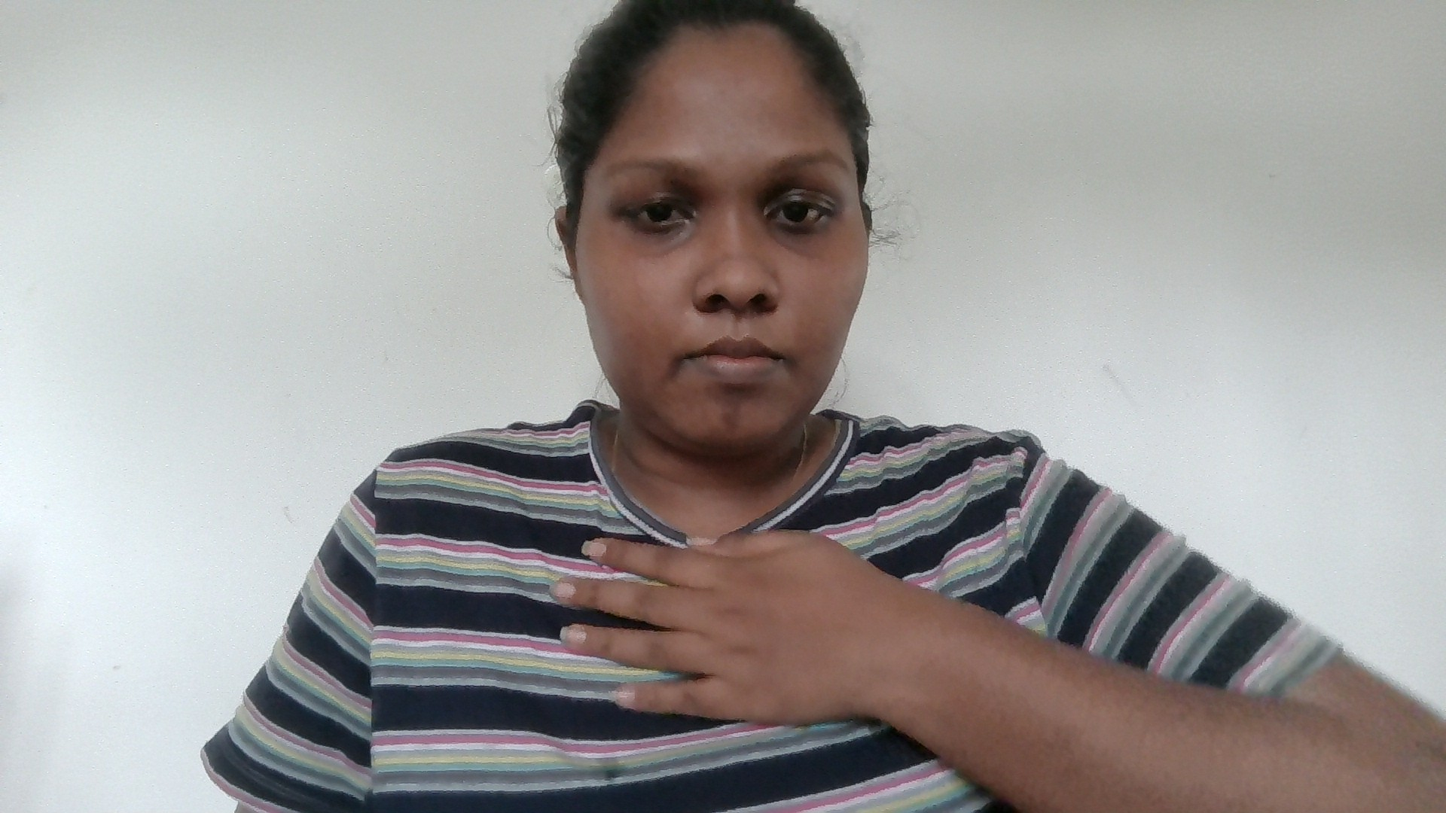Please: (529, 501, 951, 755)
